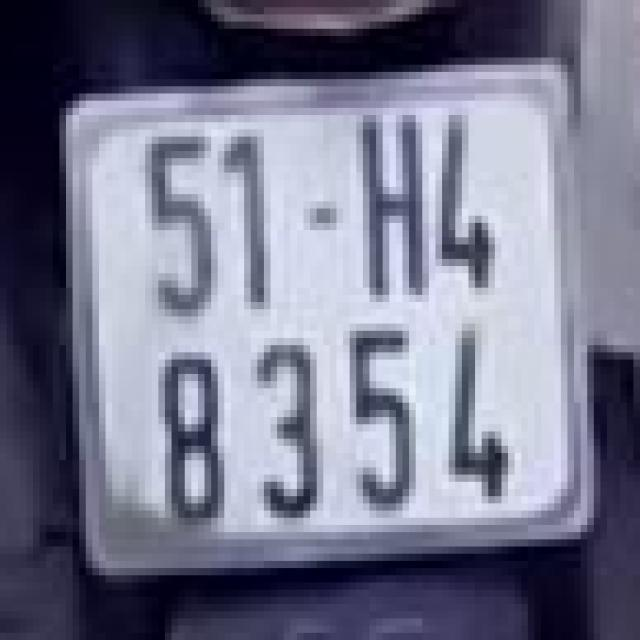1: (221, 126, 280, 313)
3: (251, 334, 330, 528)
4: (436, 320, 522, 500), (436, 108, 502, 295)
5: (132, 133, 218, 327), (346, 316, 426, 518)
8: (155, 338, 241, 532)
H: (356, 108, 429, 302)
